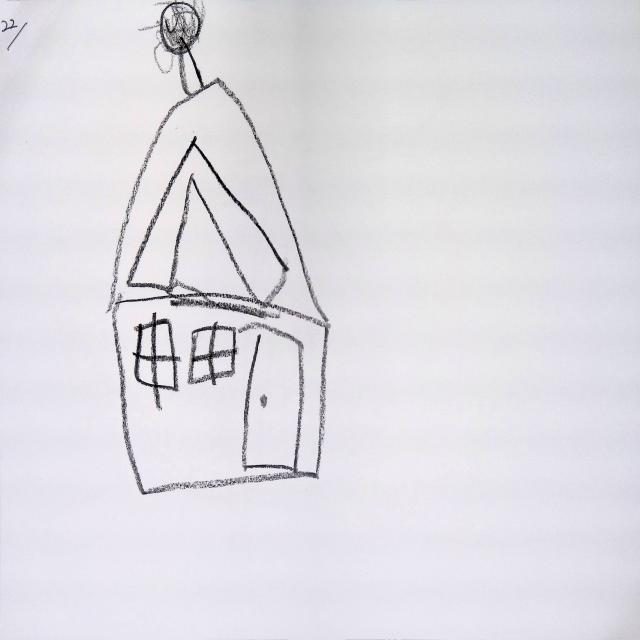chimney: (177, 47, 204, 97)
door: (244, 324, 306, 472)
house: (104, 45, 336, 499)
roof: (105, 77, 332, 330)
sun: (133, 0, 213, 79)
wall: (111, 291, 331, 501)
window: (133, 316, 179, 392), (185, 324, 235, 387)
